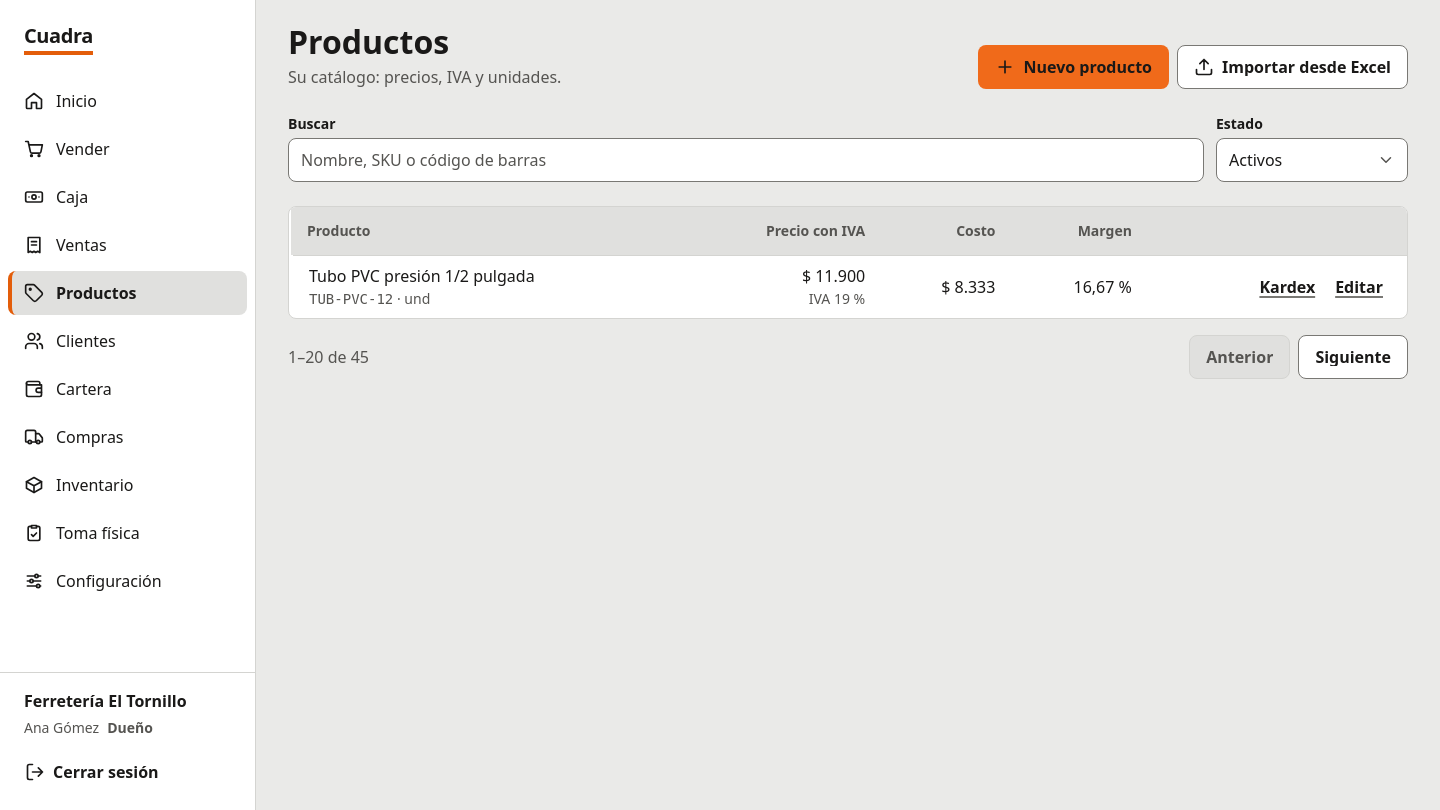
ProductListPage › pagina con siguiente y anterior
The image size is (1440, 810).
Check: the text "1–20 de 45" is shown, box x1=288 y1=345 x2=369 y2=369
Click the button "Siguiente" at point(1353, 357), box x1=1298 y1=335 x2=1408 y2=379
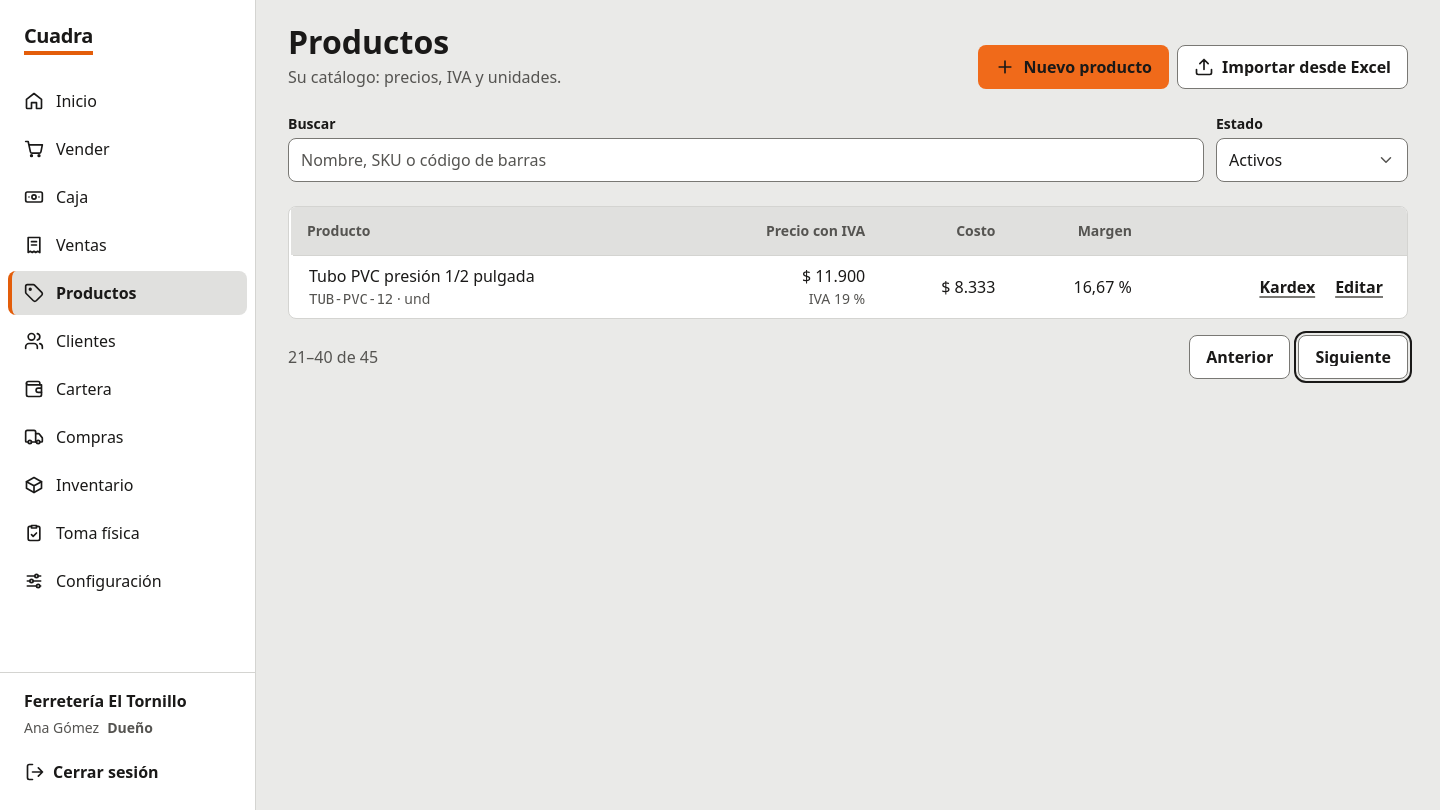
Check: the text "21–40 de 45" is shown, box x1=288 y1=345 x2=378 y2=369
Click the button "Anterior" at point(1240, 357), box x1=1189 y1=335 x2=1290 y2=379
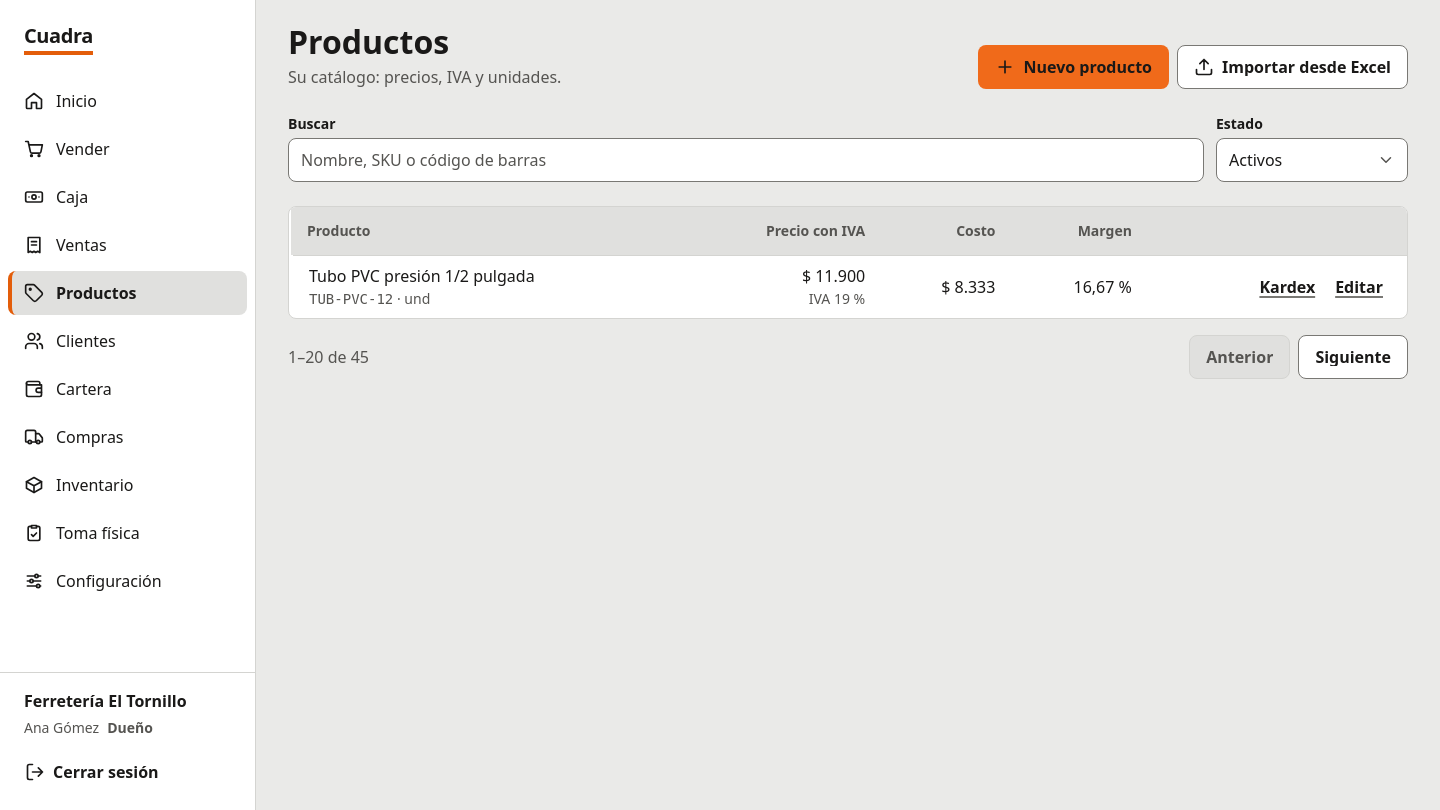
Check: the text "1–20 de 45" is shown, box x1=288 y1=345 x2=369 y2=369
